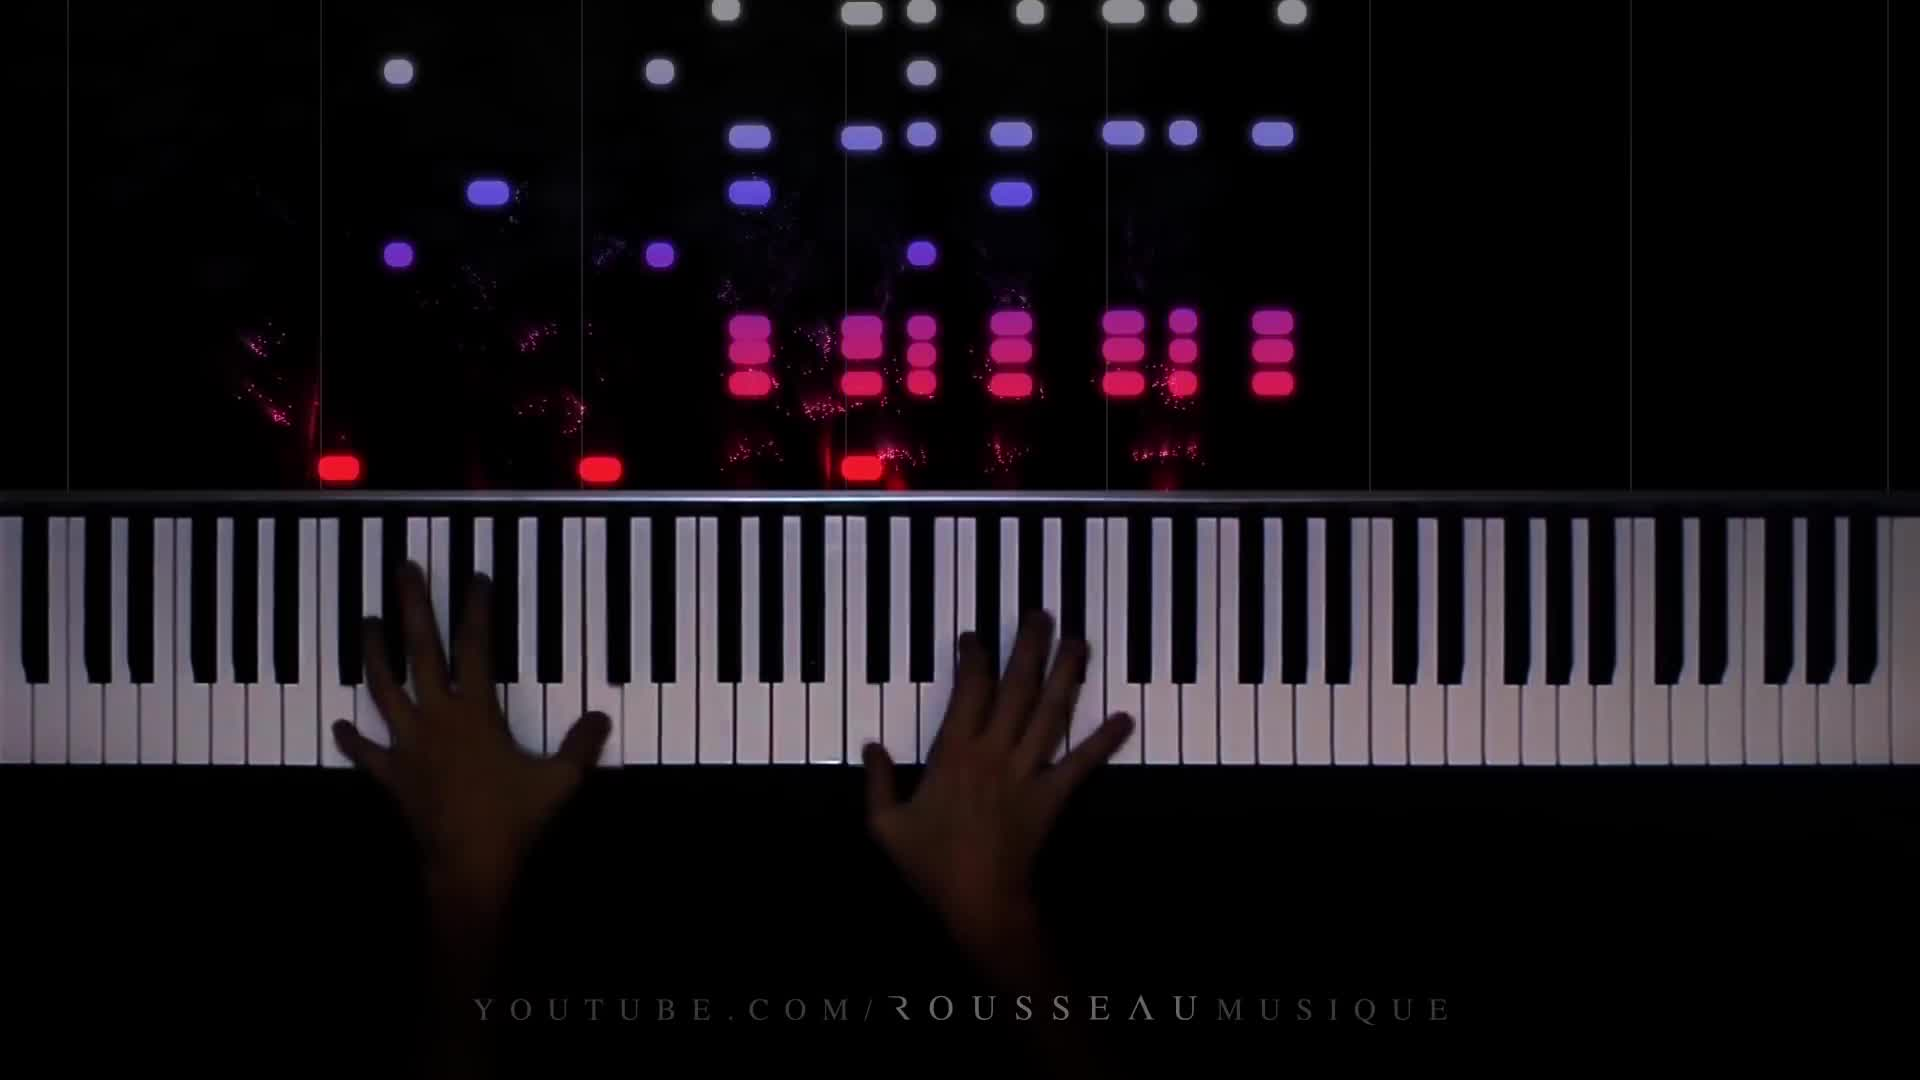left: (330, 559, 609, 845)
right: (861, 607, 1137, 891)
